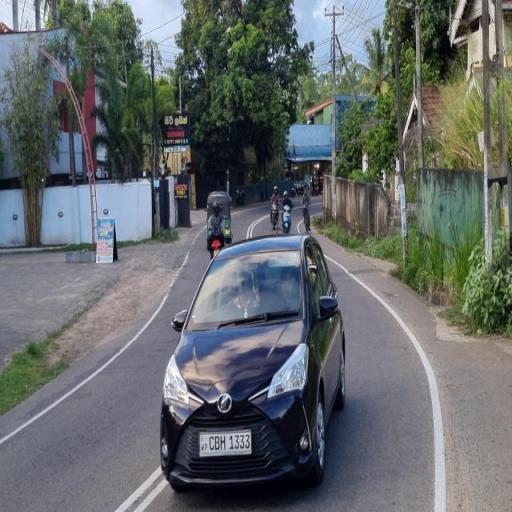double_white_line: (115, 468, 164, 510)
